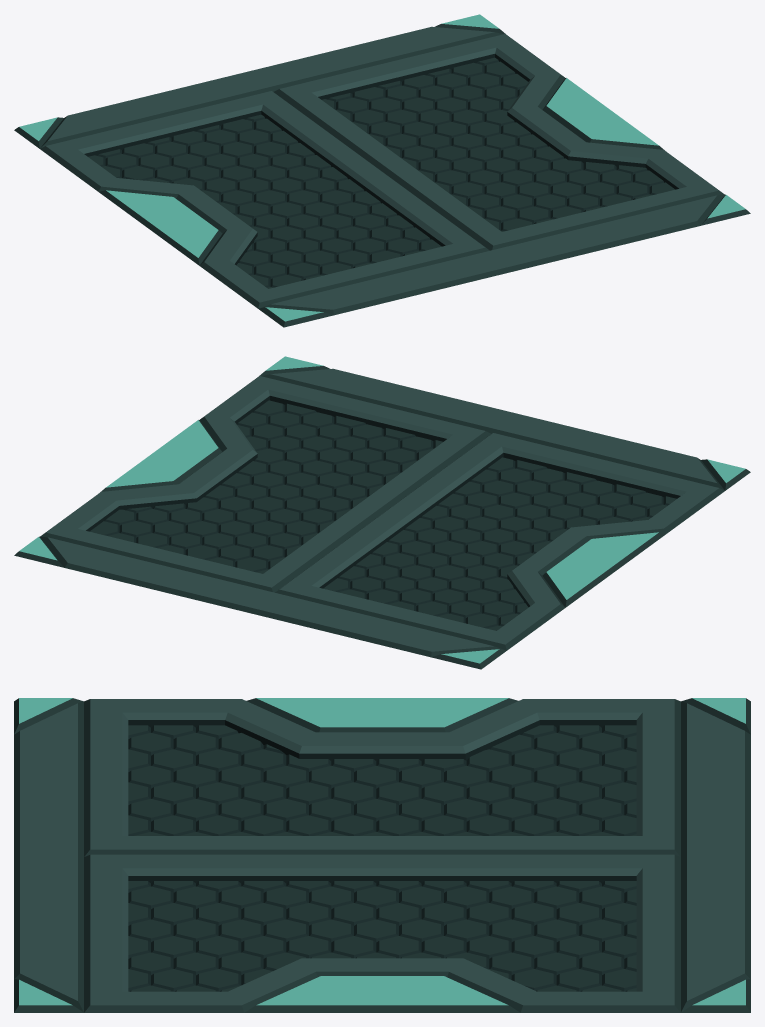
Rendered from Ground_Var04.fbx.
3 views of the same model, one above another, from view 1: azimuth 30°, elevation 25°; view 2: azimuth 150°, elevation 25°; view 3: azimuth 270°, elevation 25° (orthographic). The views are drawn at different scales.
Parts seen in each view (by area): view 1: Ground_Var04; view 2: Ground_Var04; view 3: Ground_Var04.
Part boxes in pixels (<box>): Ground_Var04: <box>14,14,750,327</box>; Ground_Var04: <box>14,356,750,669</box>; Ground_Var04: <box>14,698,750,1012</box>.
Bounding box in the file's own units: 600 × 14.47 × 600.
